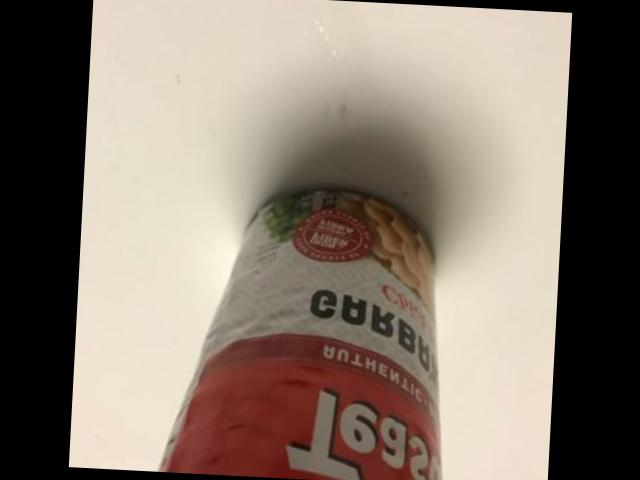metal: (165, 192, 442, 480)
